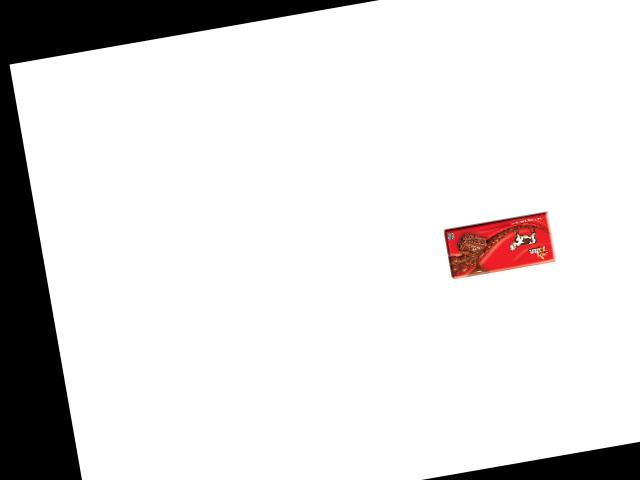chocolate: (439, 205, 560, 281)
